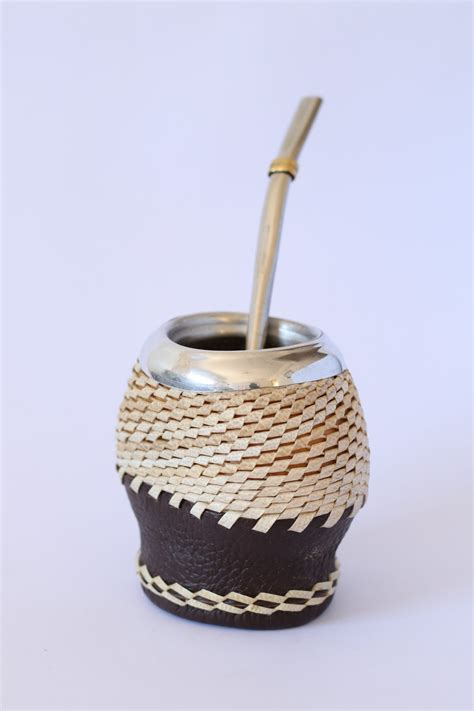cuero: (116, 467, 363, 632)
